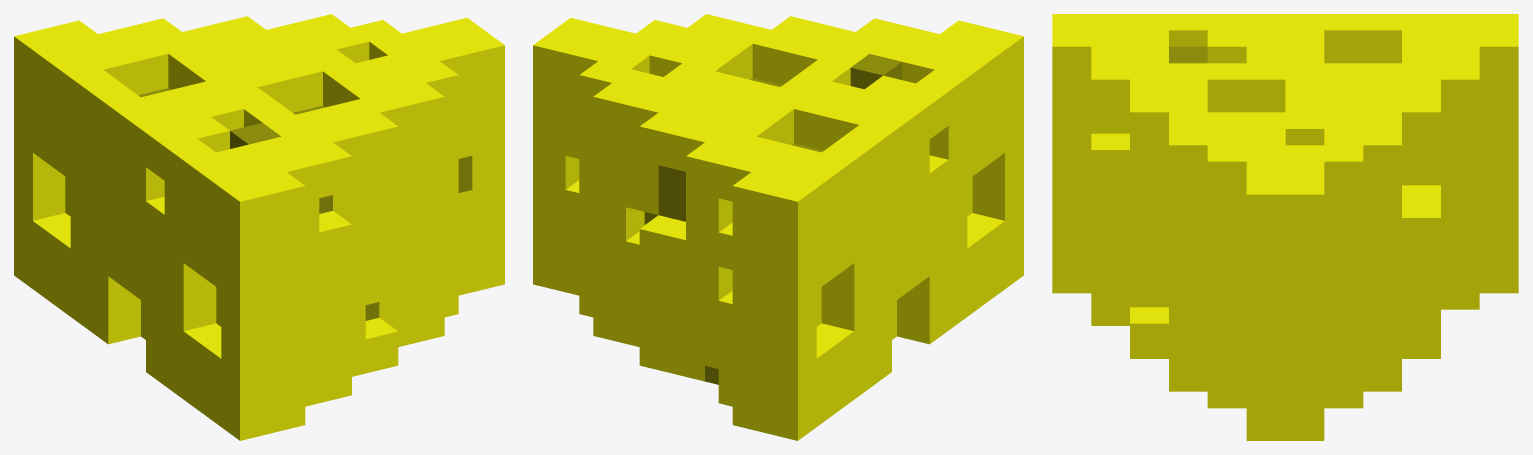
Rendered from Cheese.obj.
3 renders of one model, left to right at view 1: azimuth 30°, elevation 25°; view 2: azimuth 150°, elevation 25°; view 3: azimuth 270°, elevation 25°, orthographic. The views are drawn at different scales.
Size of the model in its own units: 1.1 by 0.7 by 1.2.
1 material, 1 textured.
